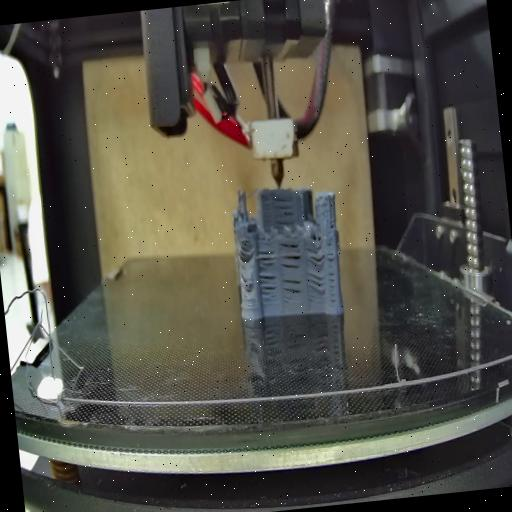cracks: (272, 190, 296, 230), (324, 243, 340, 302), (280, 273, 304, 309), (277, 240, 302, 270), (258, 273, 280, 302), (306, 273, 328, 299), (305, 242, 326, 268), (256, 246, 278, 270), (237, 244, 249, 260), (326, 219, 336, 233), (240, 272, 248, 288)
